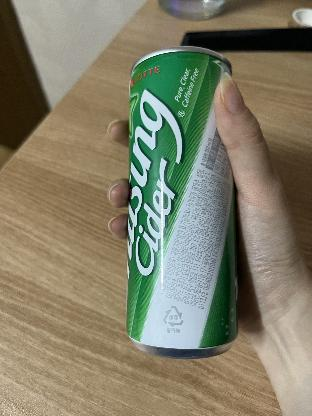Can: (125, 48, 238, 358)
